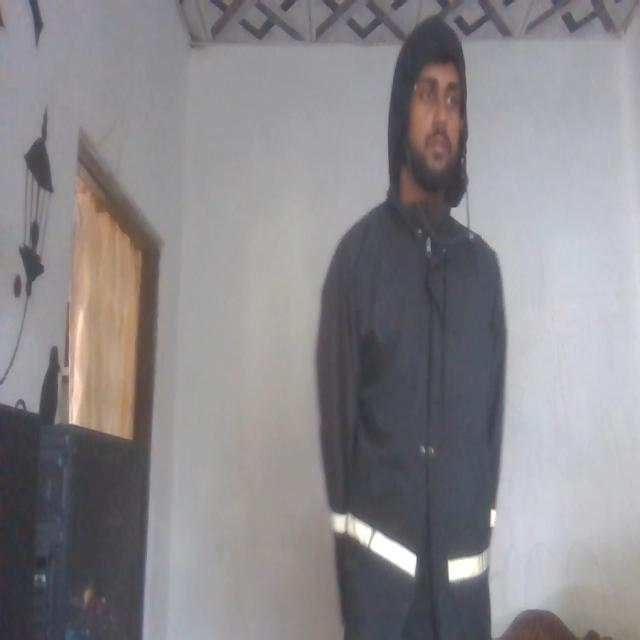Jacket_Wearer: (314, 180, 512, 636)
Person: (313, 28, 507, 640)
